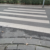zebra: (1, 8, 50, 33)
